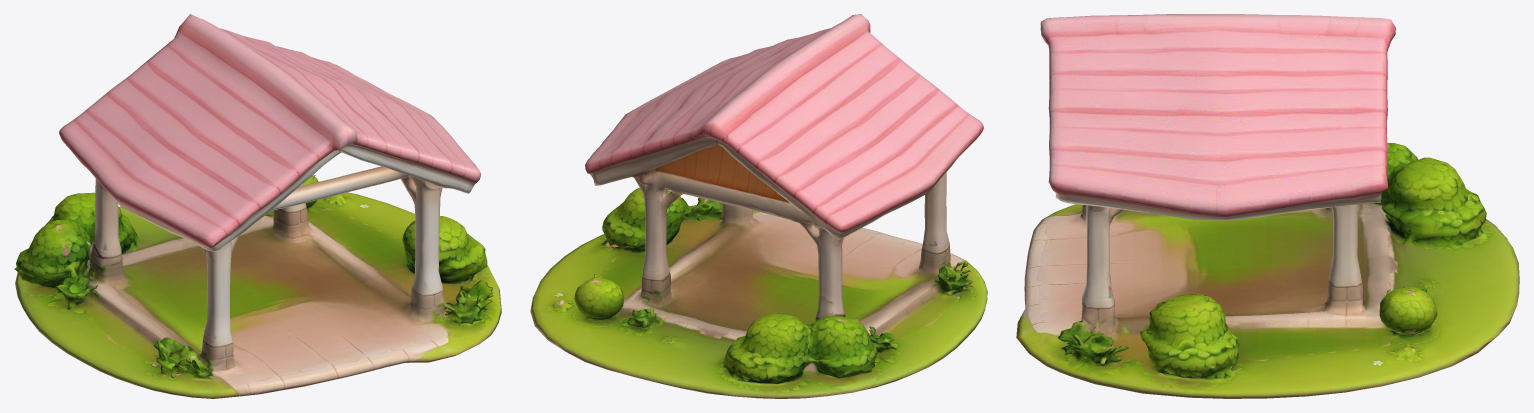
The model's file is 24-carport.glb.
The picture shows the model from 3 angles, left to right: view 1: azimuth 30°, elevation 25°; view 2: azimuth 150°, elevation 25°; view 3: azimuth 270°, elevation 25°; orthographic projection. The views are drawn at different scales.
Parts seen in each view (by area): view 1: tripo_node_432f6018-1788-49af-b187-6223f3524b46; view 2: tripo_node_432f6018-1788-49af-b187-6223f3524b46; view 3: tripo_node_432f6018-1788-49af-b187-6223f3524b46.
Boxes of the visible parts, <box> form: tripo_node_432f6018-1788-49af-b187-6223f3524b46: <box>14,14,501,398</box>; tripo_node_432f6018-1788-49af-b187-6223f3524b46: <box>530,14,987,398</box>; tripo_node_432f6018-1788-49af-b187-6223f3524b46: <box>1016,14,1519,398</box>.
Size of the model in its own units: 0.9708 by 0.5707 by 0.9475.
Materials: 1 (1 with a texture image).
